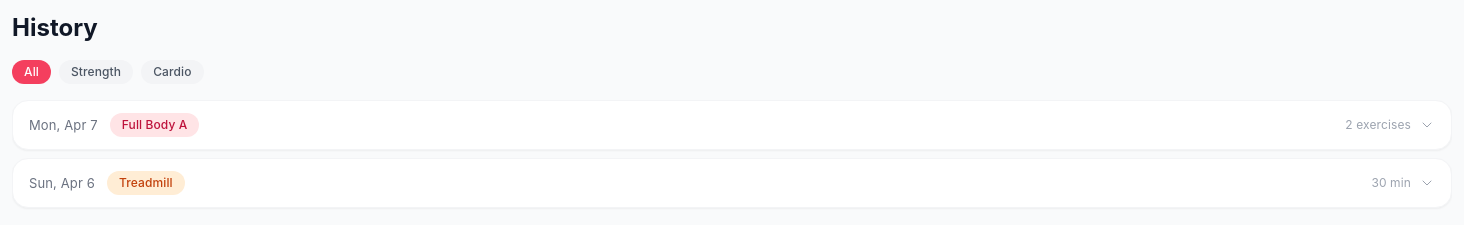
Scenario: History page › filter 'All' shows everything
# Switch to strength first
What coordinates should you click on to do the following:
click the button with test id "filter-strength"
I would click on:
 (96, 72)
Its box is [59, 60, 133, 84].
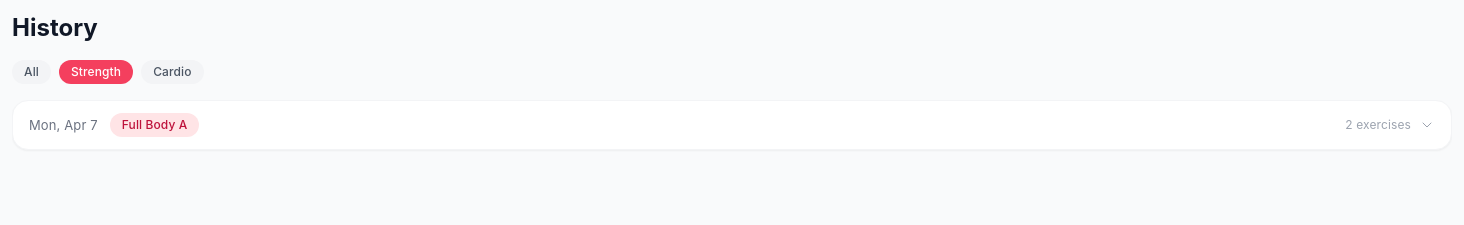
Now the number of elements with test id "session-item" is 1, box [12, 100, 1452, 150]
# Back to all
What coordinates should you click on to do the following:
click the button with test id "filter-all"
I would click on:
 (31, 72)
Its box is [12, 60, 51, 84].
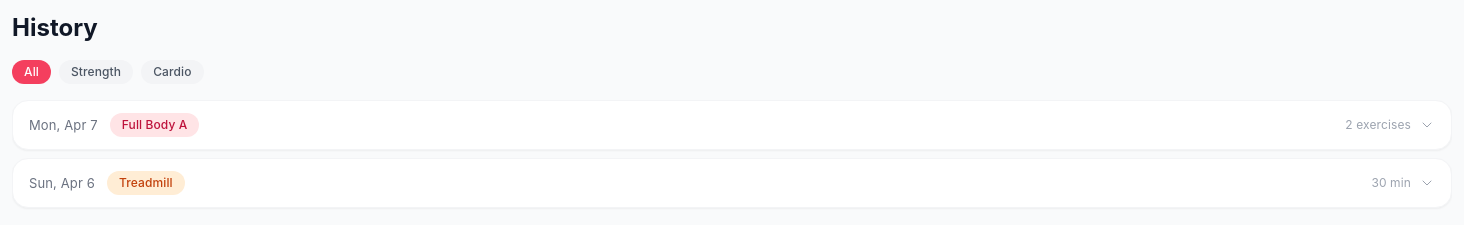
Now the number of elements with test id "session-item" is 2, box [12, 100, 1452, 150]; [12, 158, 1452, 208]
